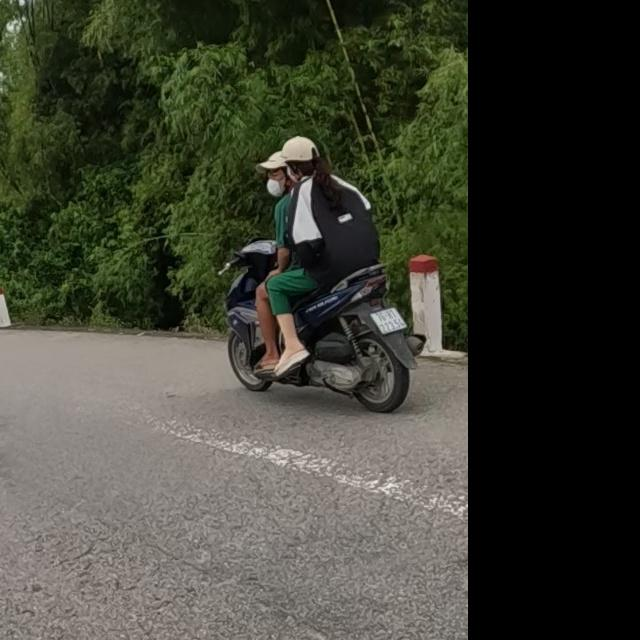license-plate: (368, 306, 409, 335)
